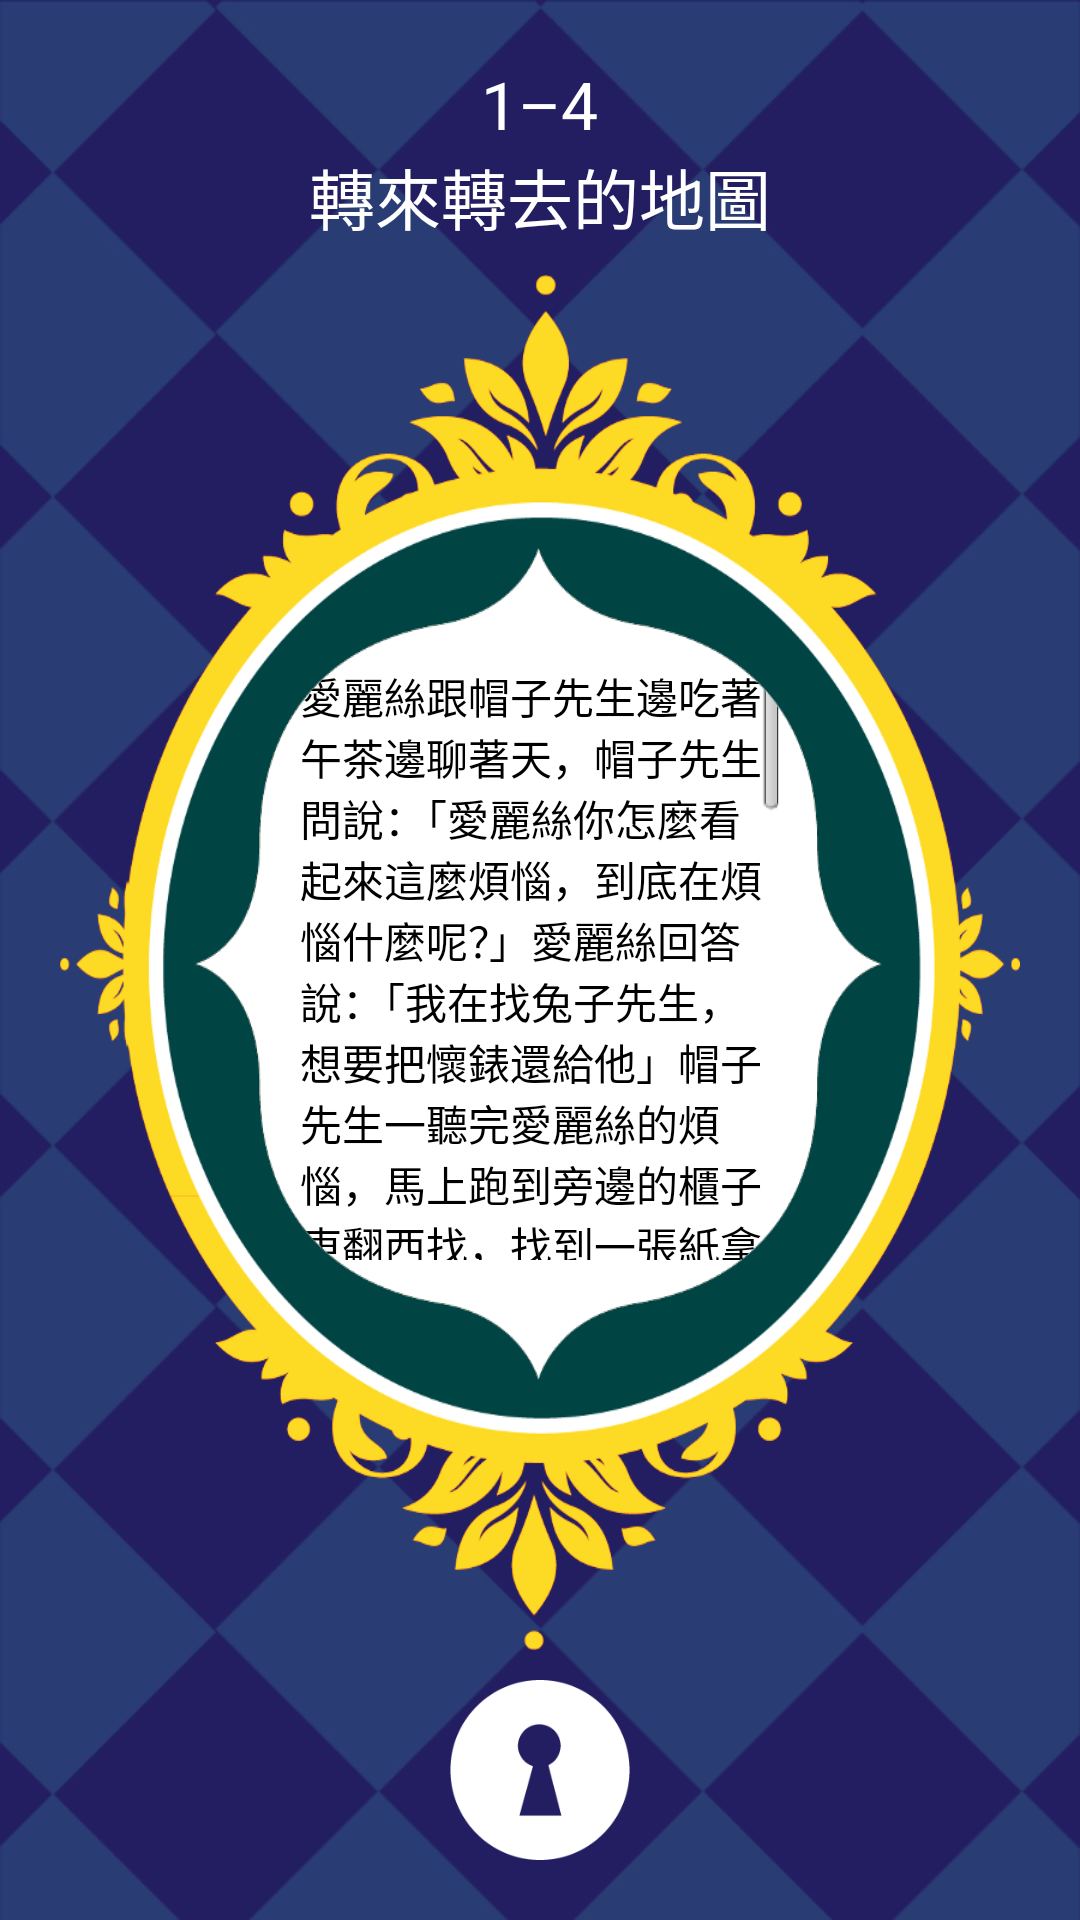

Icon bounding boxes for this 1080*1920 phone screenshot, format [x1,y1,x2,y2]:
lock: [450,1680,630,1860]
